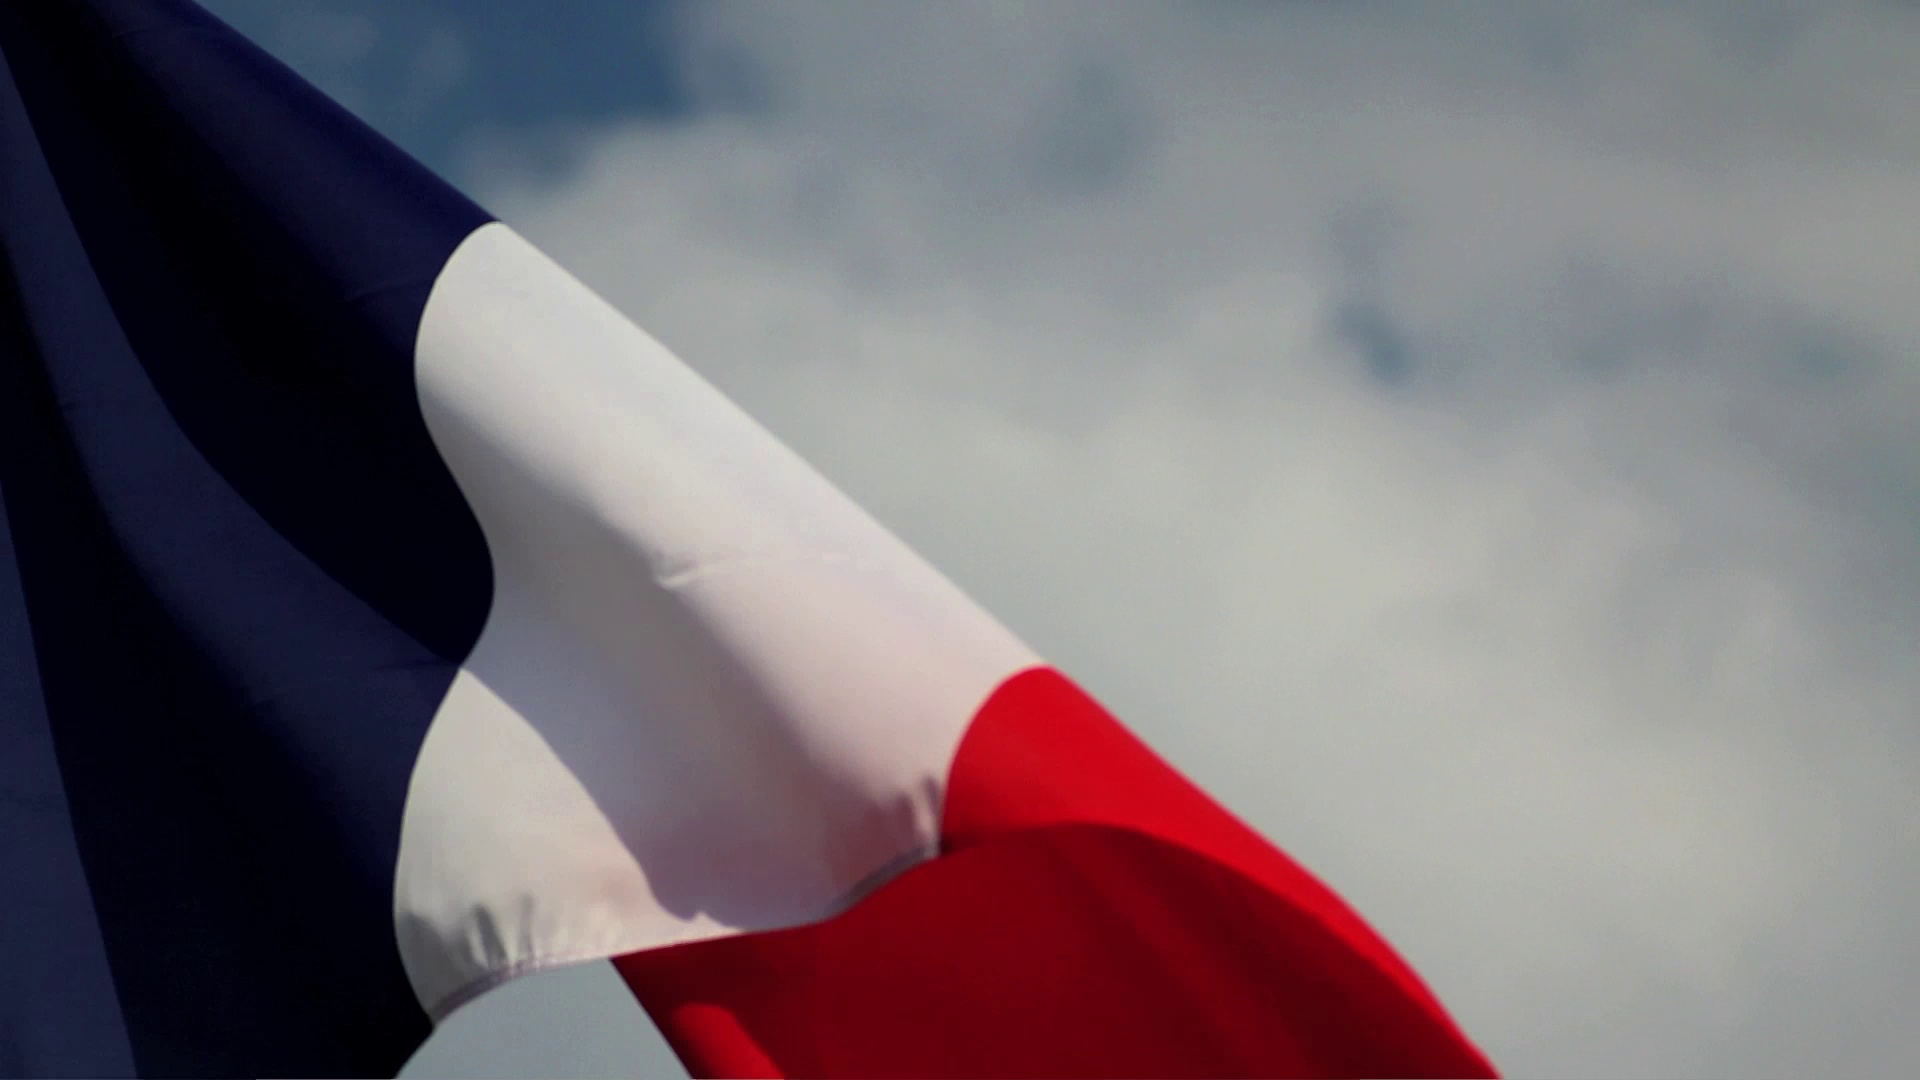French Flag: (1, 1, 1494, 1080)
